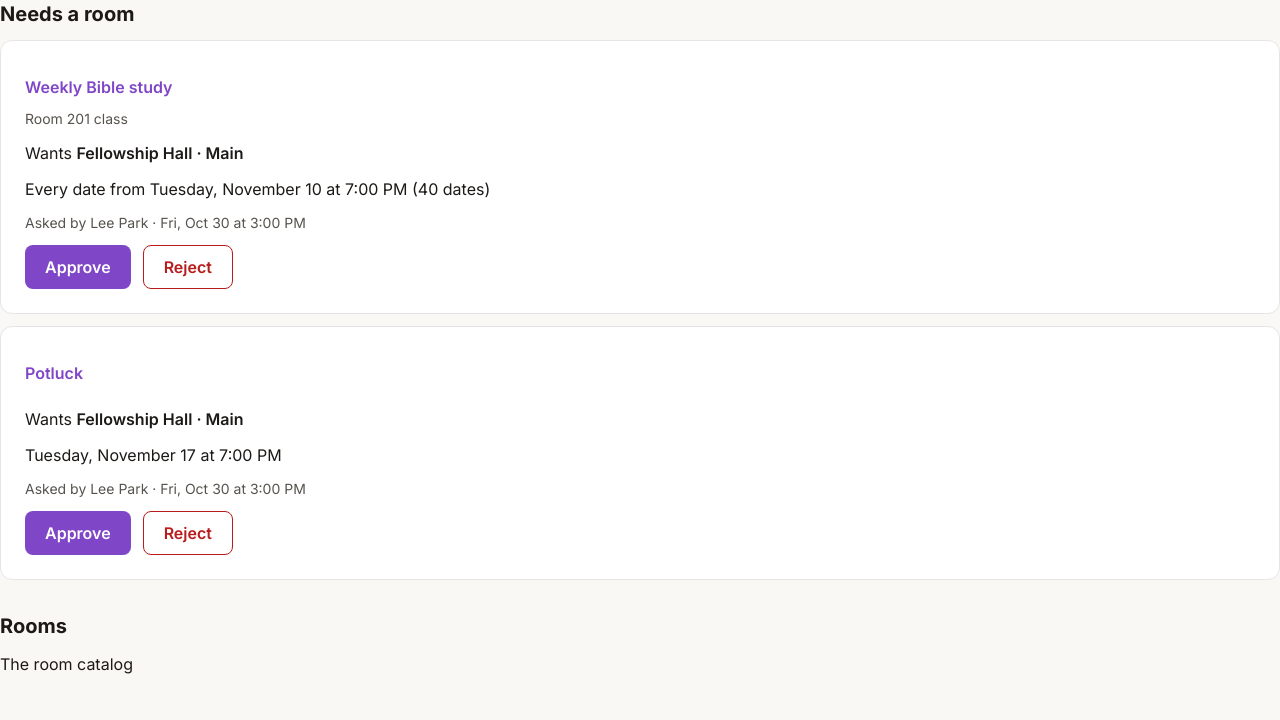
Test: RoomRequestsList › Reject › takes an optional reason and sends it
This screenshot has width=1280, height=720.
Click the button "Reject" below "Weekly Bible study" at (188, 267), box [143,245,233,289]
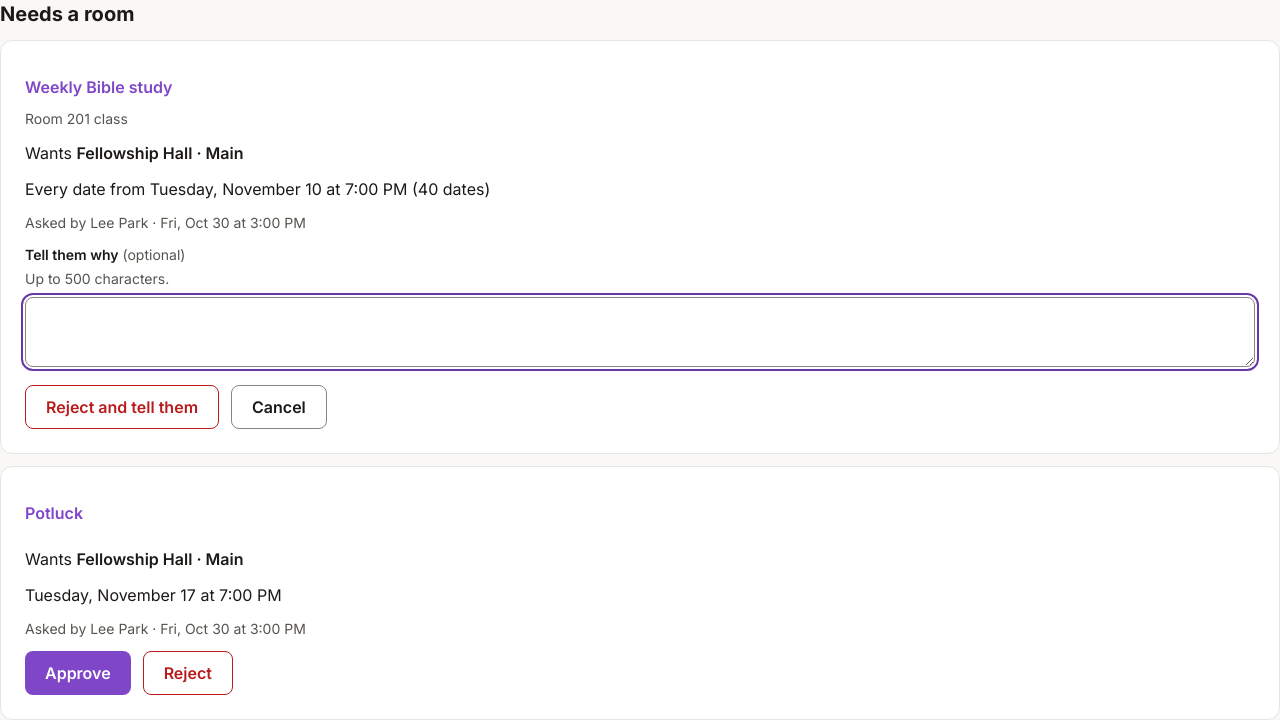
Type "The hall is closed for repairs" into the text box labelled "Tell them why (optional)" at (640, 332), box [25,297,1255,367]
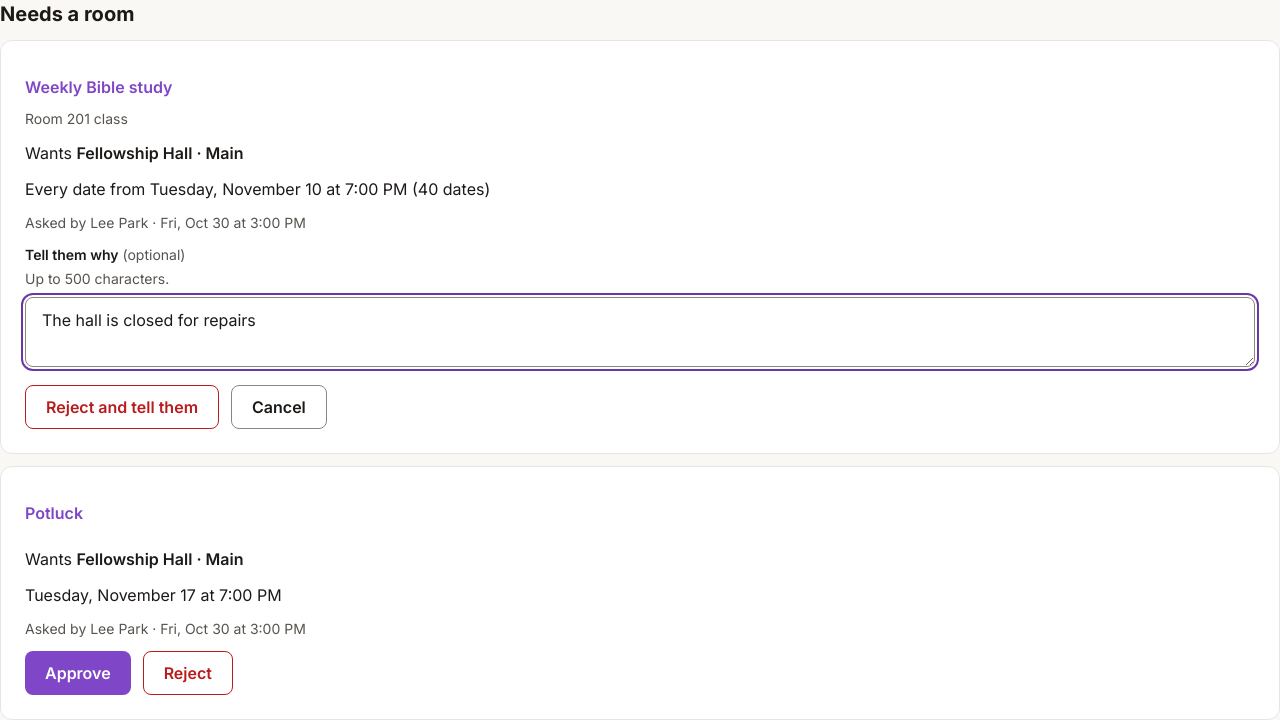
Click the button "Reject and tell them" at (122, 407), box [25,385,219,429]
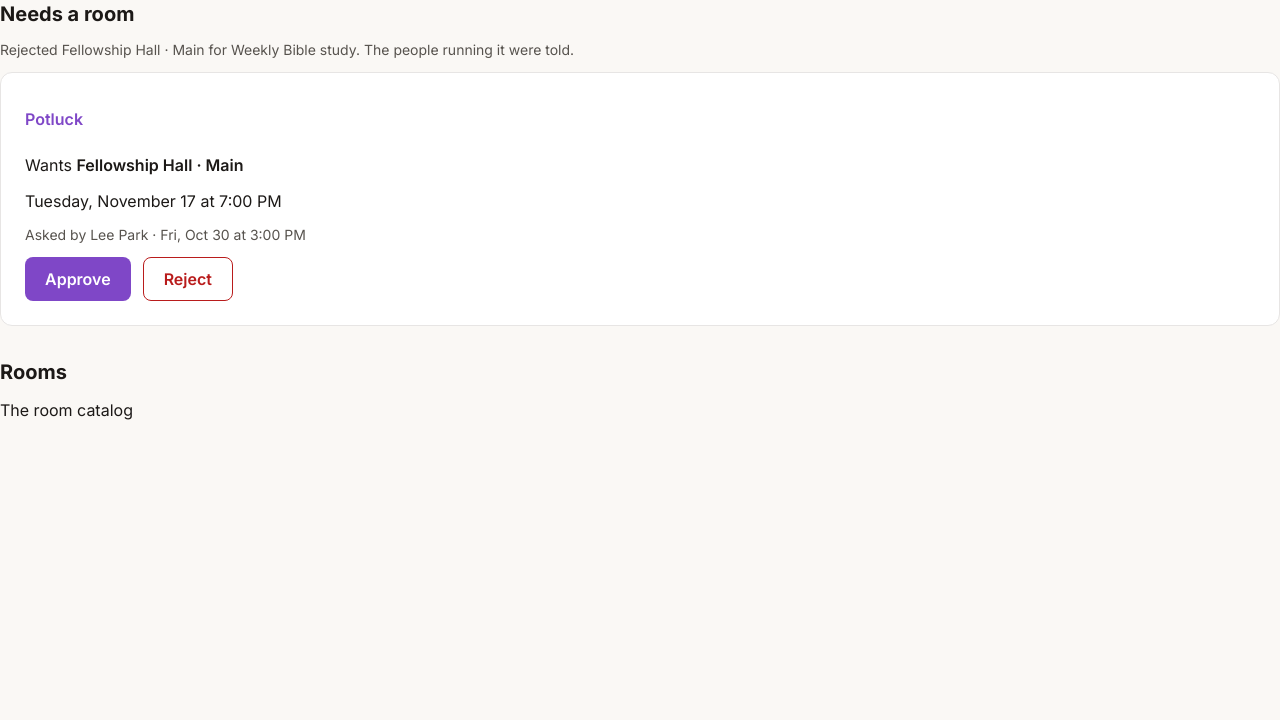
Expected: the text "Rejected Fellowship Hall · Main for Weekly Bible study. The people running it were told." is shown, [0,41,574,58]
